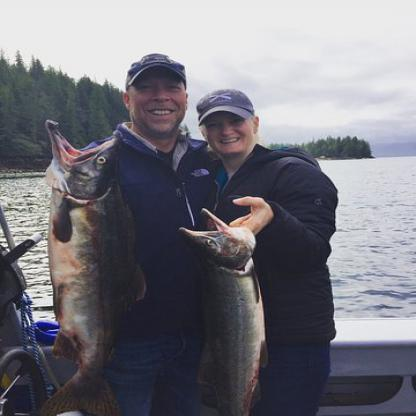fish: (24, 117, 147, 415), (176, 208, 268, 414)
